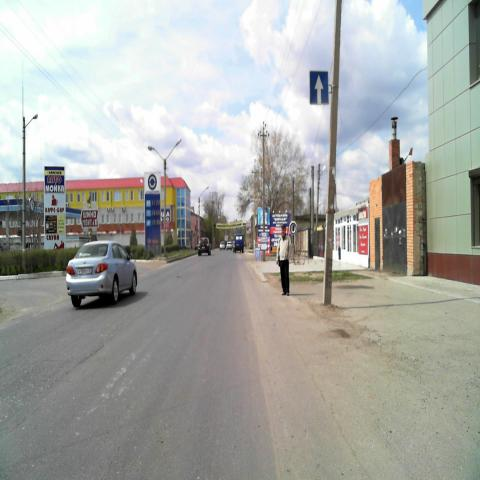5_5: (310, 70, 330, 106)
